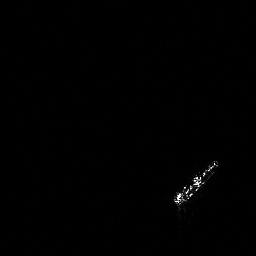ship: (169, 157, 221, 208)
